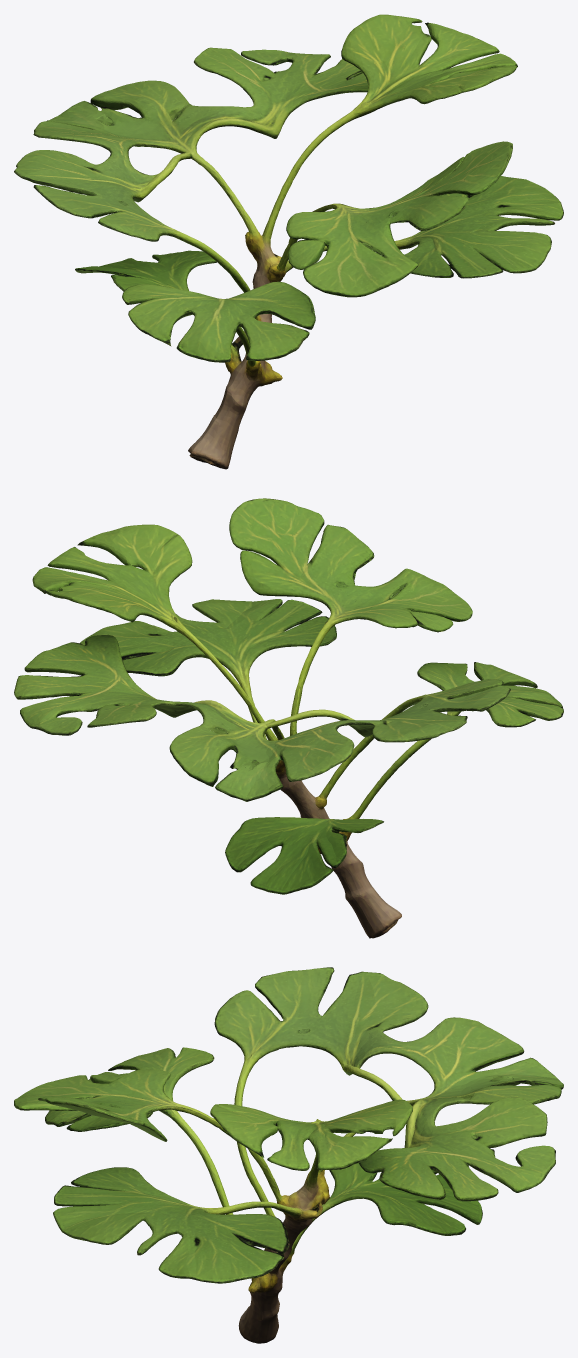
3 renders of one model, top to bottom at view 1: azimuth 30°, elevation 25°; view 2: azimuth 150°, elevation 25°; view 3: azimuth 270°, elevation 25°, orthographic. The views are drawn at different scales.
Parts seen in each view (by area): view 1: world; view 2: world; view 3: world.
Boxes of the visible parts, x1,y1,x2,y2 form: world: (14, 14, 563, 469); world: (14, 498, 563, 938); world: (14, 967, 563, 1343).
Size of the model in its own units: 0.14 by 0.0989 by 0.14.
2 materials, 1 textured.
